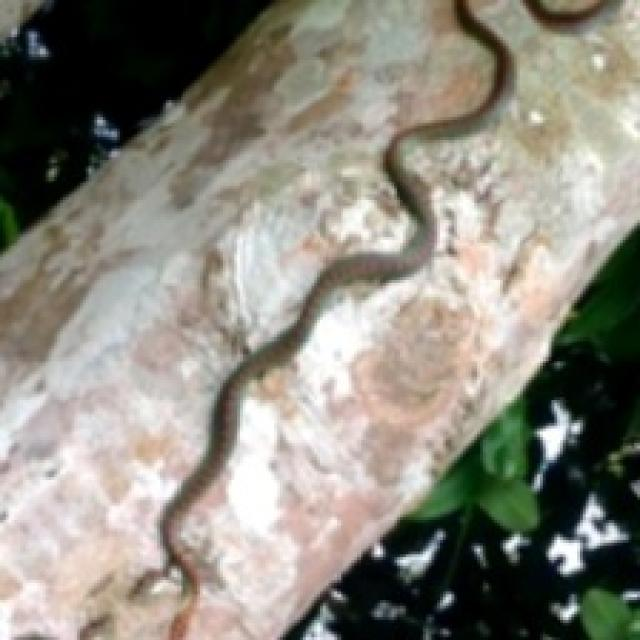paradise tree snake: (163, 0, 637, 637)
